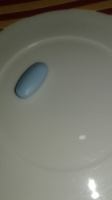Apranax: (14, 61, 50, 100)
